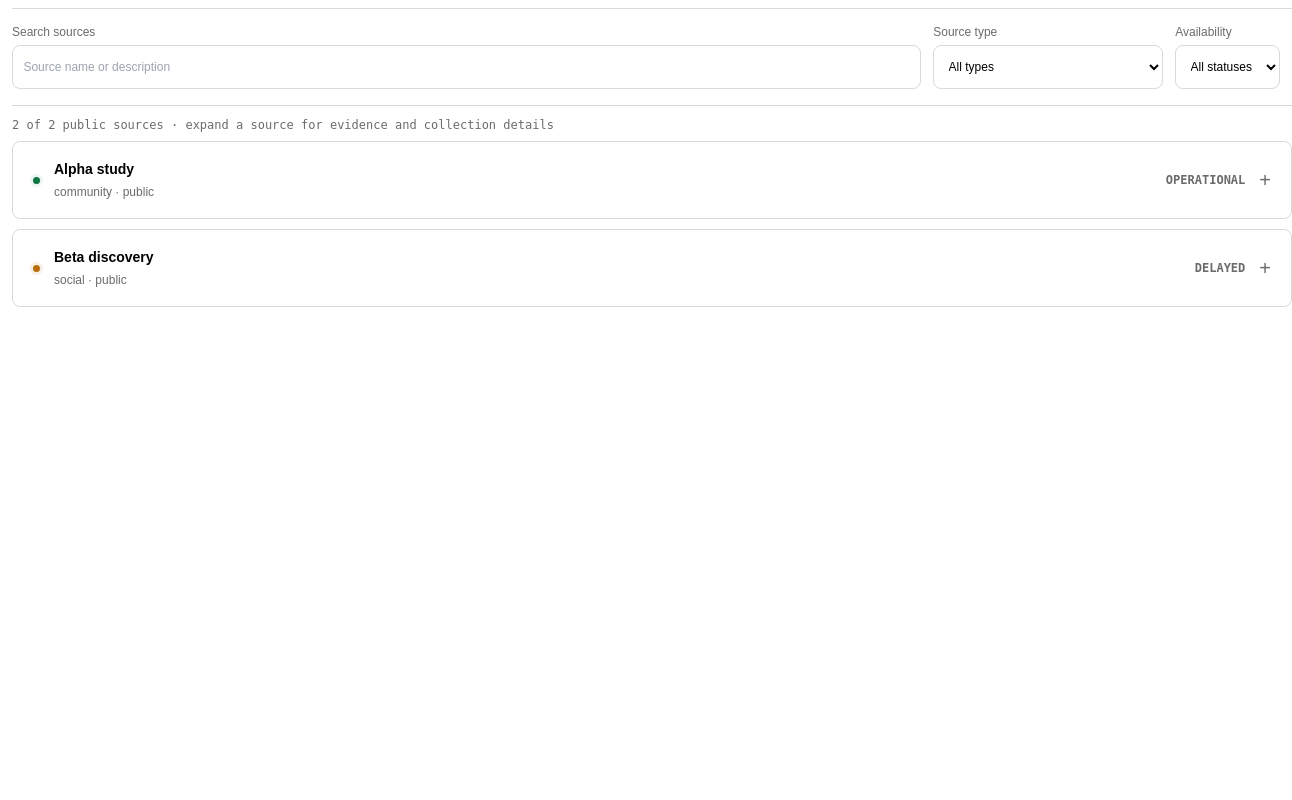
Test case: SourceRegistry › keeps details collapsed until requested, then exposes exact sample counts
Expected: the text "1 / 55" is not shown
Click the text "Alpha study" at (94, 169), box x1=54 y1=160 x2=154 y2=199
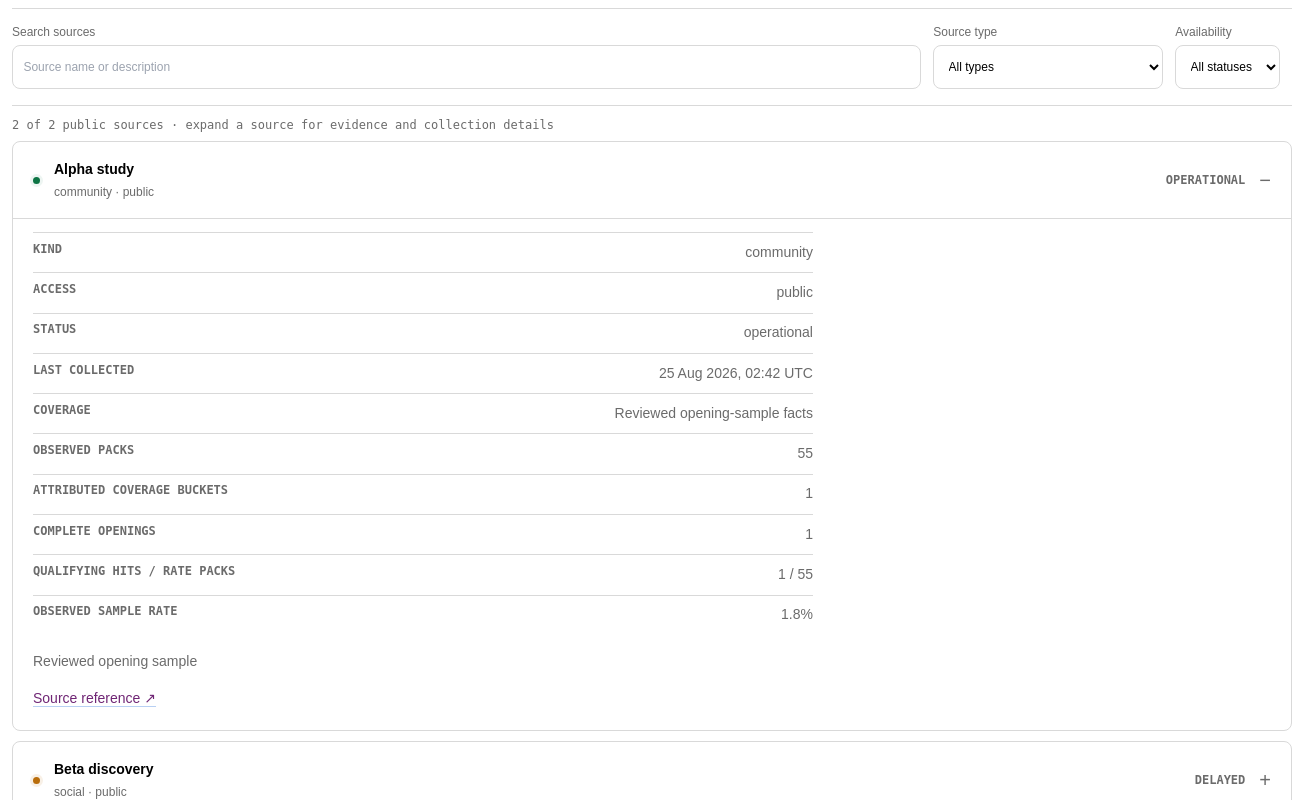
Expected: the text "1 / 55" is shown, x1=778 y1=566 x2=813 y2=582
Expected: the text "1.8%" is shown, x1=781 y1=606 x2=813 y2=622
